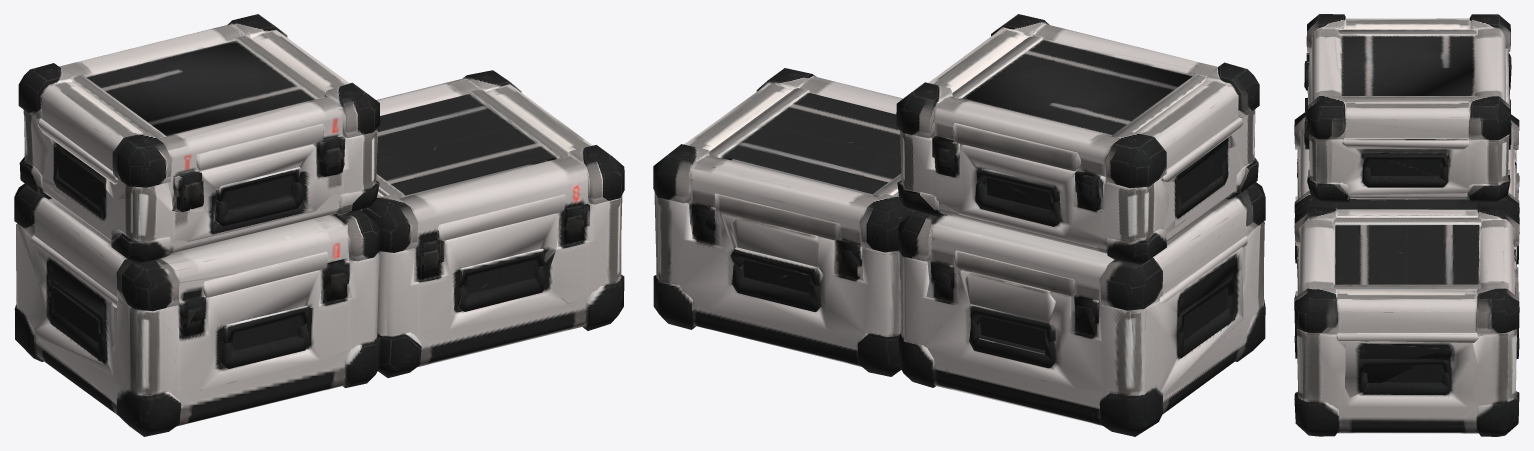
The model's file is equipment_cases.glb.
3 renders of one model, left to right at view 1: azimuth 30°, elevation 25°; view 2: azimuth 150°, elevation 25°; view 3: azimuth 270°, elevation 25°, orthographic. The views are drawn at different scales.
Visible parts, largest first — view 1: Mesh_0; view 2: Mesh_0; view 3: Mesh_0.
Part boxes in pixels (x1,y1,x2,y2): Mesh_0: [14, 14, 624, 436]; Mesh_0: [653, 14, 1265, 436]; Mesh_0: [1294, 14, 1519, 436].
Bounding box in the file's own units: 2.16 × 1.2 × 1.04.
1 material, 1 textured.
